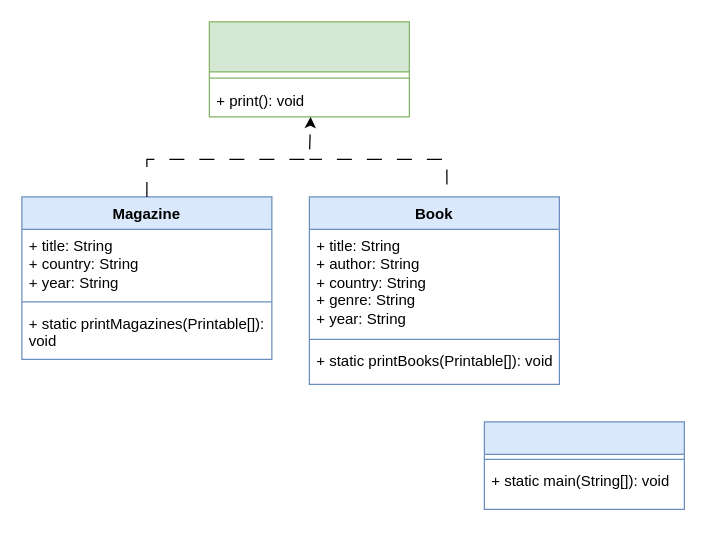
Image size: 706x535. Some labels were removed from this diagram. The box of each missing label's shape, as (x1, y1, x2, y2) in pixels:
<<<interface>>> Printable: (208, 21, 409, 117)
Tester: (483, 421, 684, 509)
